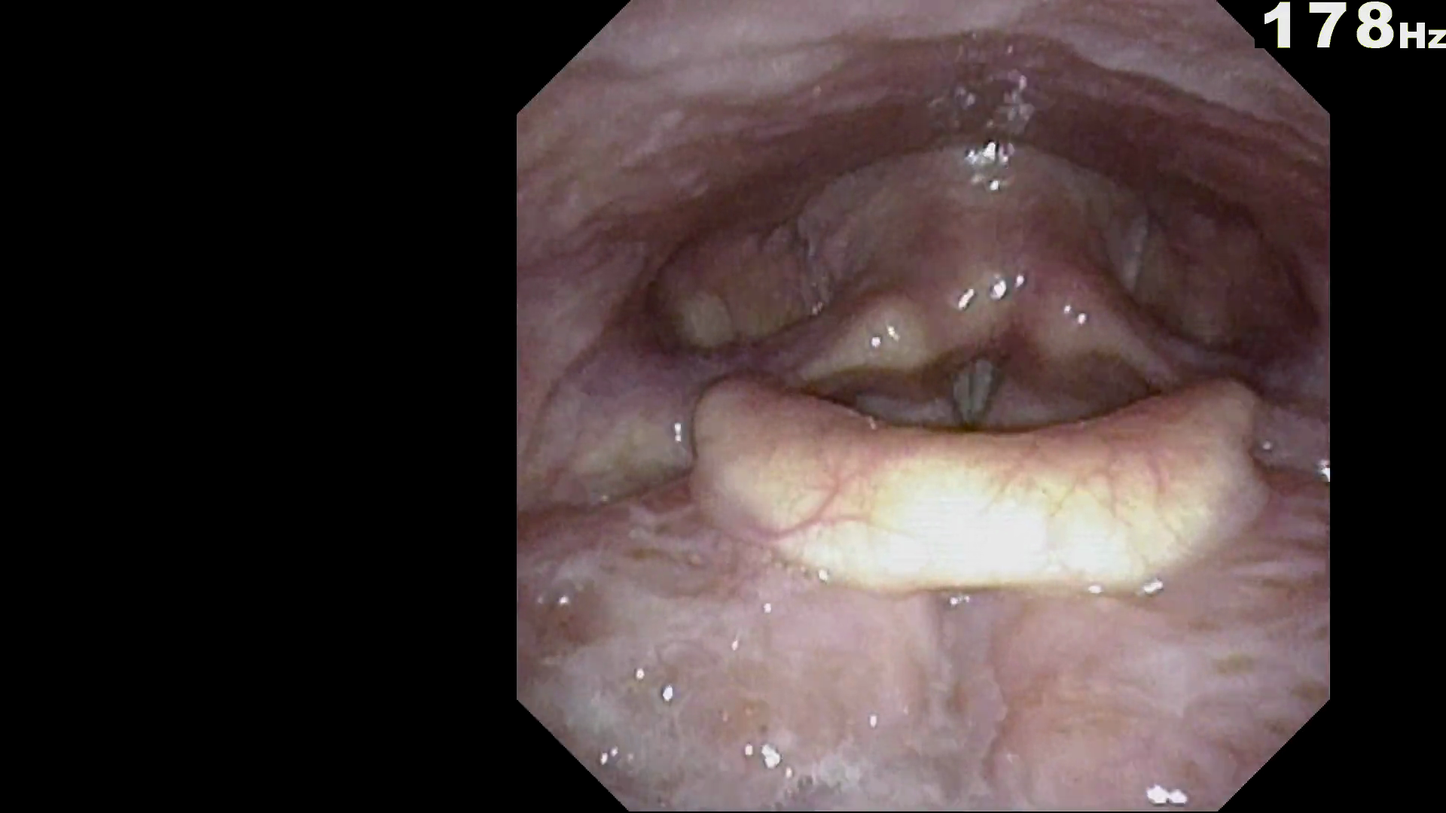epiglottis: (686, 351, 1285, 630)
trachea: (916, 315, 1028, 452)
